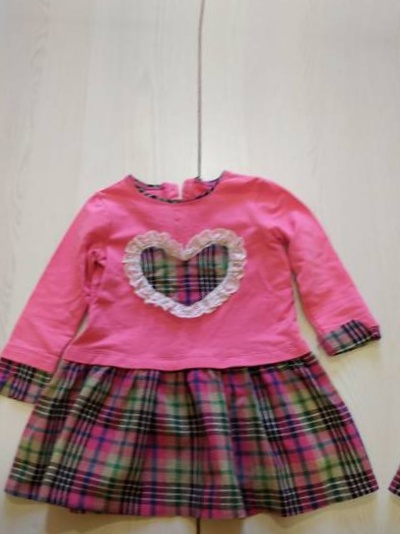Dress: (1, 143, 397, 534), (388, 168, 400, 534)
